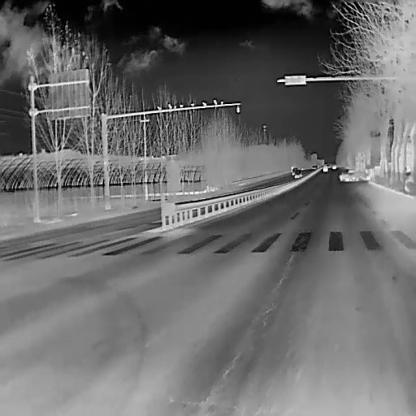car: (337, 168, 359, 182), (293, 168, 301, 178), (290, 166, 298, 176), (322, 164, 328, 172), (331, 163, 336, 169), (312, 163, 316, 169)
